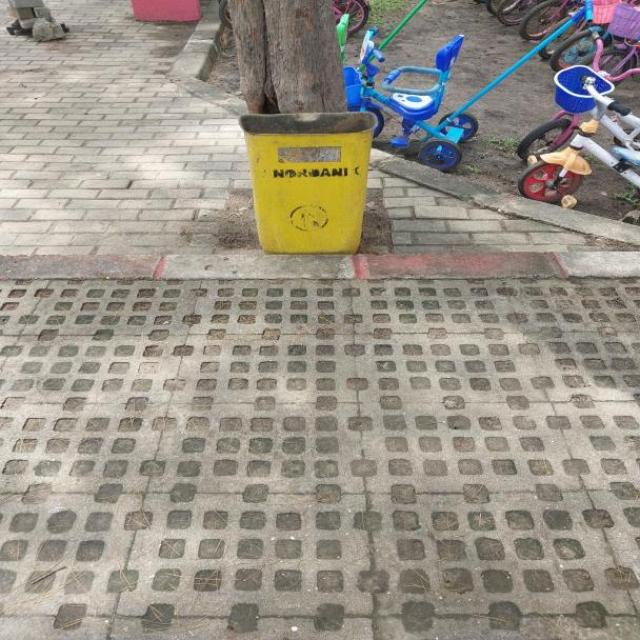dustbin ahead at: (239, 106, 372, 257)
